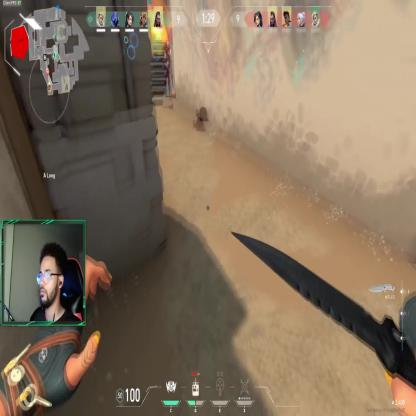enemy: (162, 40, 174, 95)
enemy_head: (166, 40, 169, 48)
